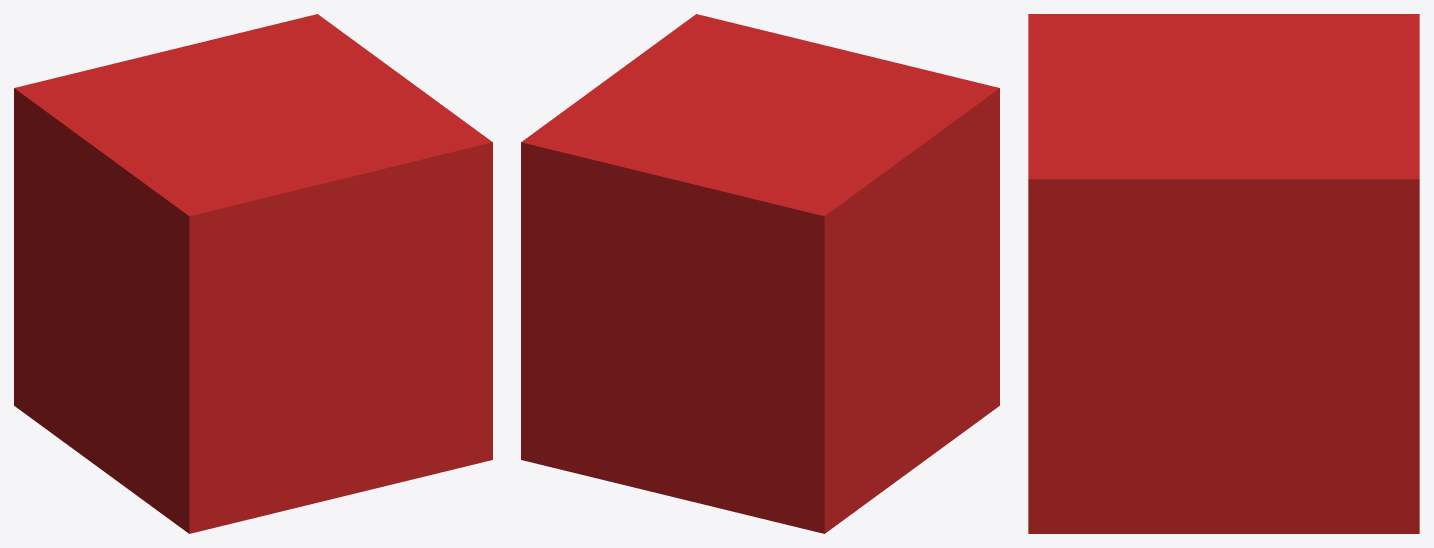
3 renders of one model, left to right at view 1: azimuth 30°, elevation 25°; view 2: azimuth 150°, elevation 25°; view 3: azimuth 270°, elevation 25°, orthographic. The views are drawn at different scales.
Visible parts, largest first — view 1: 平面; view 2: 平面; view 3: 平面.
Boxes of the visible parts, x1,y1,x2,y2 form: 平面: (14,14,492,533); 平面: (521,14,999,533); 平面: (1028,14,1419,533).
Size of the model in its own units: 2 by 2 by 2.
Materials: 1 (1 with a texture image).
